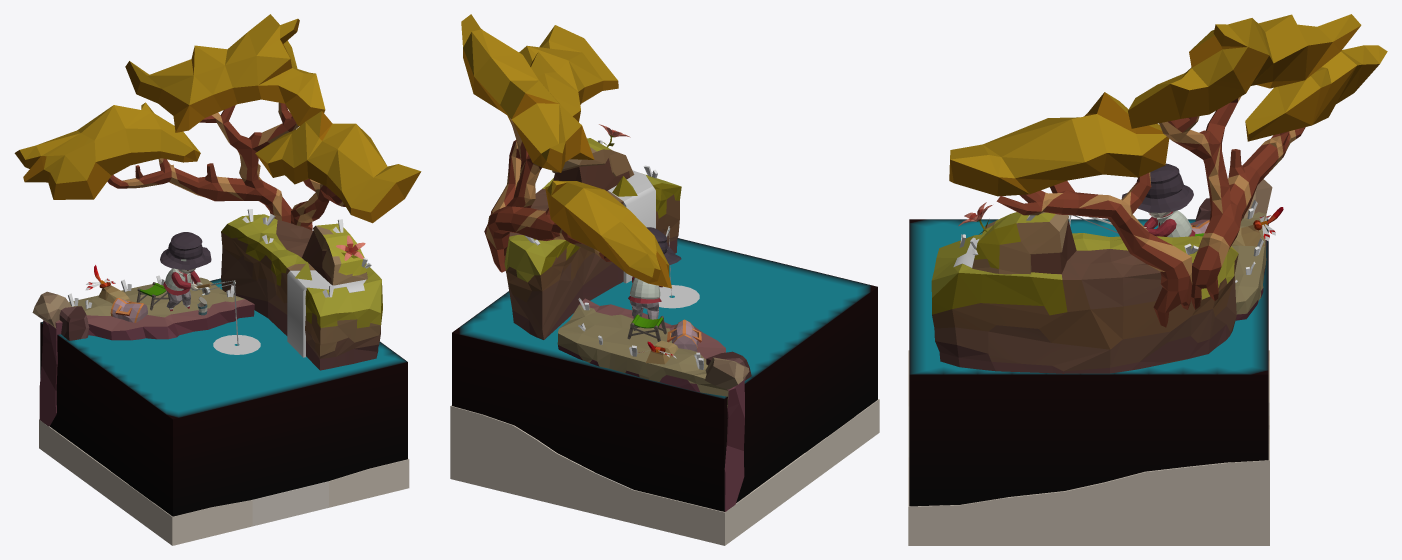
The model's file is 0029_fishing.fbx.
The picture shows the model from 3 angles, left to right: view 1: azimuth 30°, elevation 25°; view 2: azimuth 150°, elevation 25°; view 3: azimuth 270°, elevation 25°; orthographic projection. The views are drawn at different scales.
Parts seen in each view (by area): view 1: [water]rWater, Plate2, Tree02_Leaves02, Sand, Tree02_Leaves01, Tree01_Leaves01, Plate1, Tree02_Body, grass_Rock, waterfall, Fishingman_Hat, Tree01_Body (+4 smaller); view 2: [water]rWater, Sand, Plate2, Plate1, Tree02_Leaves02, Tree02_Leaves01, Tree01_Leaves01, Tree02_Body, grass_Rock, waterfall, Rock06, Tree01_Body (+4 smaller); view 3: [water]rWater, Plate2, Sand, Tree01_Leaves01, Tree02_Leaves02, Tree02_Body, Tree01_Body, Tree02_Leaves01, grass_Rock, Plate1, Fishingman_Hat.
Boxes of the visible parts, bbox=[...] form: [water]rWater: bbox=[40, 278, 407, 516]; Plate2: bbox=[221, 214, 382, 370]; Tree02_Leaves02: bbox=[125, 14, 325, 132]; Sand: bbox=[39, 419, 409, 545]; Tree02_Leaves01: bbox=[14, 102, 200, 199]; Tree01_Leaves01: bbox=[255, 111, 421, 223]; Plate1: bbox=[39, 277, 254, 426]; Tree02_Body: bbox=[107, 102, 299, 223]; grass_Rock: bbox=[302, 223, 367, 285]; waterfall: bbox=[287, 270, 366, 357]; Fishingman_Hat: bbox=[160, 232, 211, 269]; Tree01_Body: bbox=[291, 179, 345, 230]; [water]rWater: bbox=[452, 238, 877, 511]; Sand: bbox=[450, 399, 879, 545]; Plate2: bbox=[504, 175, 681, 339]; Plate1: bbox=[557, 298, 744, 511]; Tree02_Leaves02: bbox=[461, 14, 594, 172]; Tree02_Leaves01: bbox=[545, 180, 671, 288]; Tree01_Leaves01: bbox=[507, 25, 618, 124]; Tree02_Body: bbox=[484, 117, 611, 272]; grass_Rock: bbox=[552, 138, 634, 190]; waterfall: bbox=[608, 170, 655, 283]; Rock06: bbox=[705, 357, 749, 389]; Tree01_Body: bbox=[490, 140, 521, 214]; [water]rWater: bbox=[909, 219, 1268, 506]; Plate2: bbox=[931, 233, 1238, 373]; Sand: bbox=[908, 350, 1269, 545]; Tree01_Leaves01: bbox=[949, 92, 1169, 196]; Tree02_Leaves02: bbox=[1128, 14, 1361, 128]; Tree02_Body: bbox=[1159, 96, 1305, 309]; Tree01_Body: bbox=[996, 172, 1192, 327]; Tree02_Leaves01: bbox=[1245, 45, 1387, 141]; grass_Rock: bbox=[972, 212, 1076, 274]; Plate1: bbox=[1190, 212, 1266, 320]; Fishingman_Hat: bbox=[1122, 163, 1193, 212].
Size of the model in its own units: 9.35 by 12.59 by 10.46.
